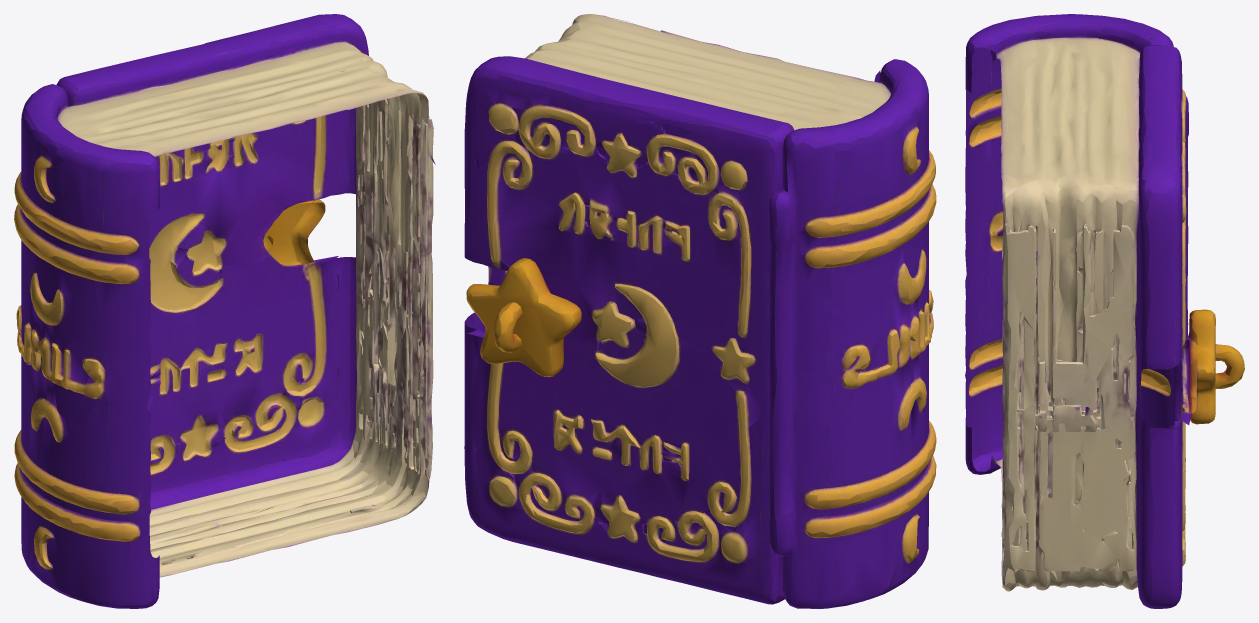
The picture shows the model from 3 angles, left to right: view 1: azimuth 30°, elevation 25°; view 2: azimuth 150°, elevation 25°; view 3: azimuth 270°, elevation 25°; orthographic projection. The views are drawn at different scales.
Visible parts, largest first — view 1: geometry_0; view 2: geometry_0; view 3: geometry_0.
Part boxes in pixels (x1,y1,x2,y2): geometry_0: (14,14,435,608); geometry_0: (464,14,936,608); geometry_0: (965,14,1244,608).
Size of the model in its own units: 0.1049 by 0.12 by 0.0696.
1 material, 1 textured.
